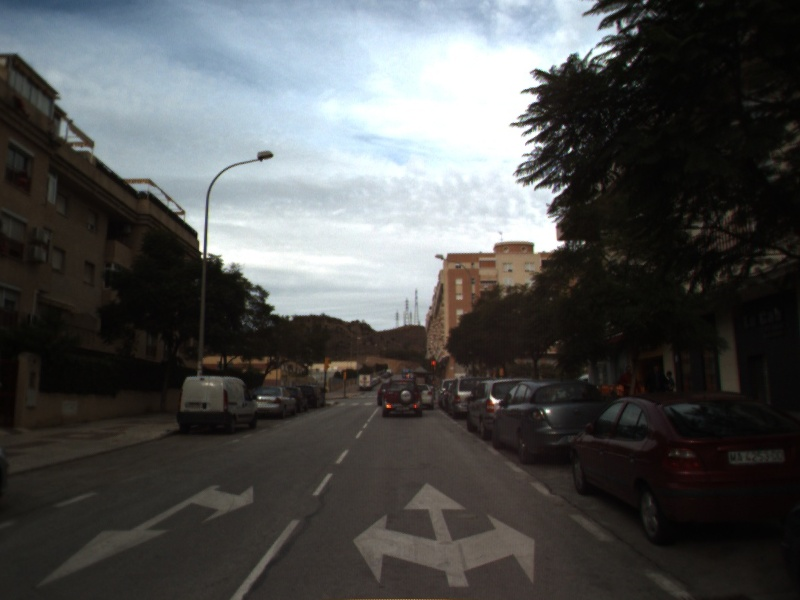STRAIGHT_LEFT_RIGHT: (350, 479, 539, 590)
